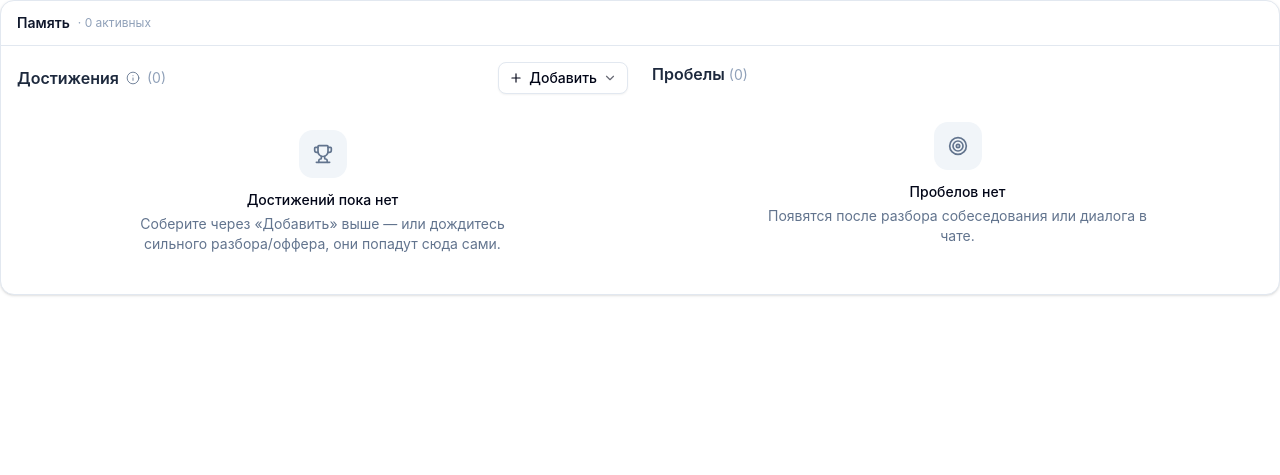
Test: FactsMemory (правка 2026-08-26: Достижения+Пробелы, без Заметок) › пункт меню «Вручную» раскрывает форму ручного добавления
Press Enter in the button "Добавить", box [498,62,628,94]
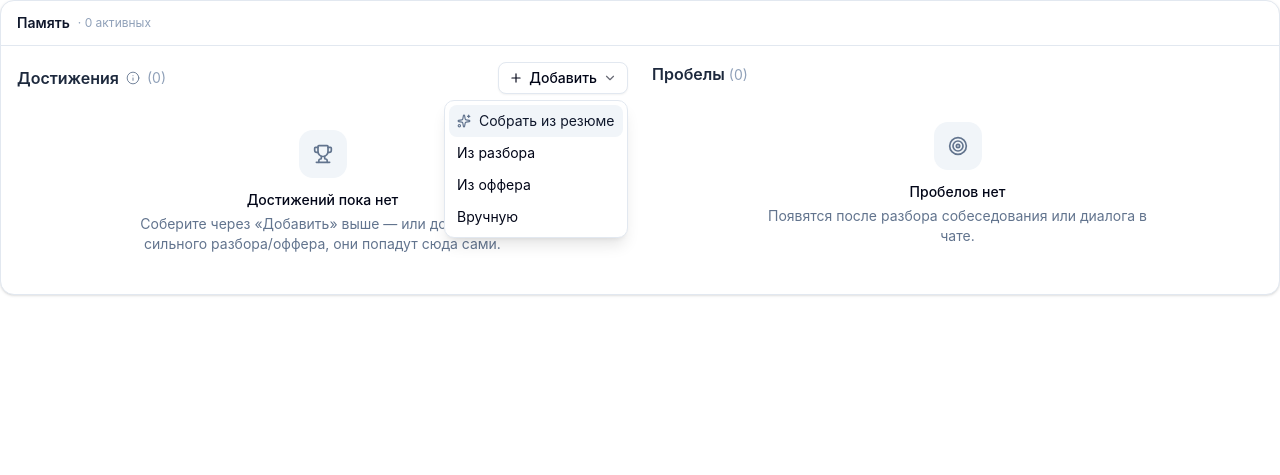
Click the menu item "Вручную": [488, 216] box [457,208,518,225]
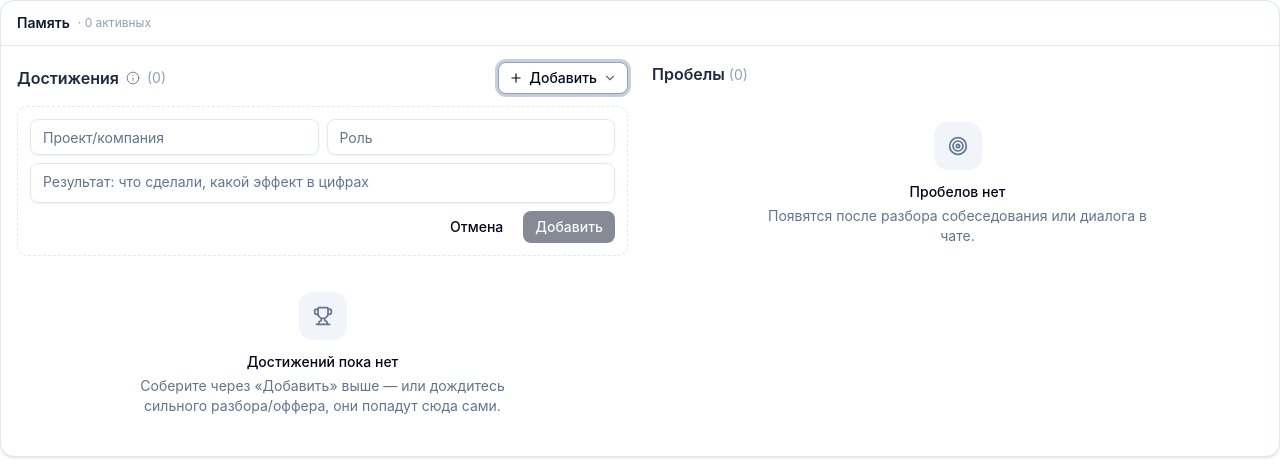
Expected: the field with placeholder "Проект/компания" is shown, [30,119,318,155]
